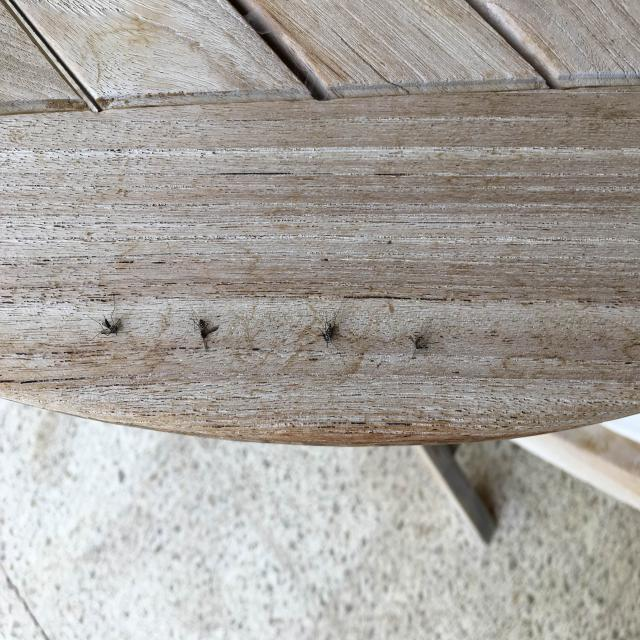albopictus: (310, 299, 352, 360)
